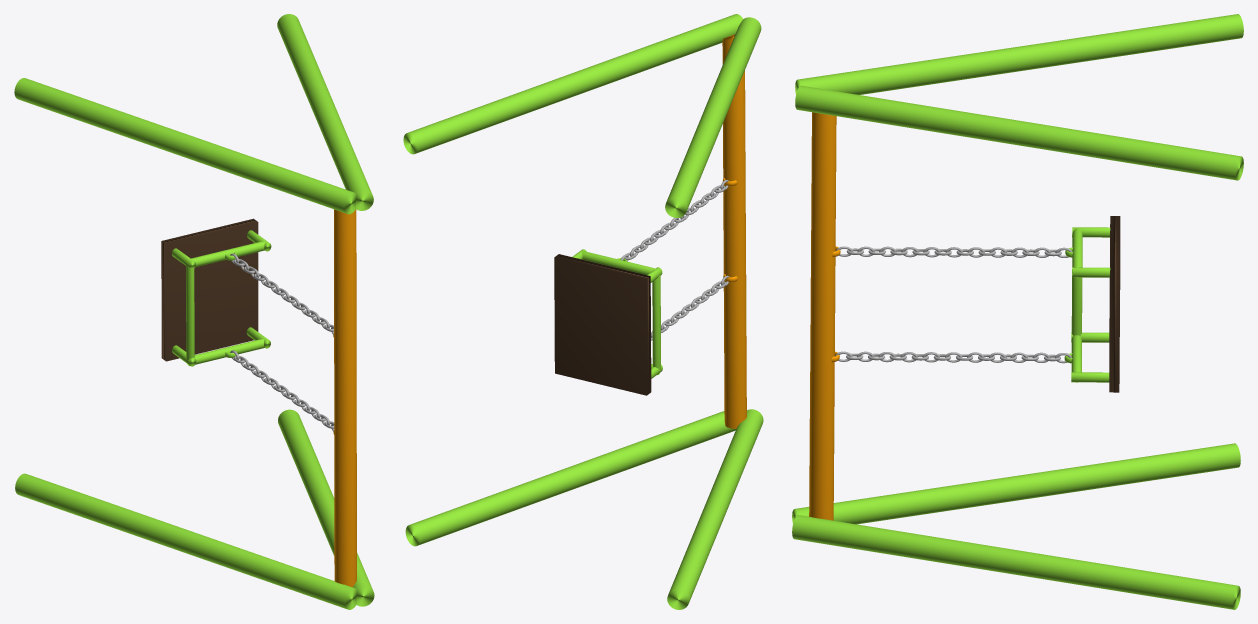
File: качели (1).glb
3 views of the same model, side by side, from view 1: azimuth 30°, elevation 25°; view 2: azimuth 150°, elevation 25°; view 3: azimuth 270°, elevation 25° (orthographic). The views are drawn at different scales.
Visible parts, largest first — view 1: Куб.030, Циліндр.004, Циліндр.001, Циліндр.003, Циліндр.002, Циліндр, Циліндр.009, Циліндр.010, Циліндр.011; view 2: Куб.030, Циліндр.002, Циліндр, Циліндр.004, Циліндр.003, Циліндр.001, Циліндр.009, Циліндр.010; view 3: Циліндр.002, Циліндр, Циліндр.003, Циліндр.001, Циліндр.004, Куб.030, Циліндр.009.
Part boxes in pixels (bbox=[...]): Куб.030: bbox=[161, 218, 258, 361]; Циліндр.004: bbox=[334, 209, 356, 587]; Циліндр.001: bbox=[15, 473, 356, 609]; Циліндр.003: bbox=[14, 78, 355, 214]; Циліндр.002: bbox=[277, 14, 373, 210]; Циліндр: bbox=[278, 409, 374, 606]; Циліндр.009: bbox=[186, 264, 194, 360]; Циліндр.010: bbox=[190, 240, 266, 266]; Циліндр.011: bbox=[187, 338, 264, 365]; Куб.030: bbox=[554, 254, 651, 395]; Циліндр.002: bbox=[403, 14, 742, 154]; Циліндр: bbox=[405, 411, 736, 546]; Циліндр.004: bbox=[722, 34, 746, 428]; Циліндр.003: bbox=[665, 17, 761, 217]; Циліндр.001: bbox=[667, 409, 763, 609]; Циліндр.009: bbox=[652, 274, 660, 369]; Циліндр.010: bbox=[580, 250, 656, 275]; Циліндр.002: bbox=[795, 85, 1243, 180]; Циліндр: bbox=[792, 515, 1240, 609]; Циліндр.003: bbox=[795, 14, 1243, 94]; Циліндр.001: bbox=[792, 443, 1240, 524]; Циліндр.004: bbox=[809, 112, 836, 520]; Куб.030: bbox=[1109, 216, 1120, 392]; Циліндр.009: bbox=[1071, 269, 1082, 335].
Size of the model in its own units: 1.52 by 2.12 by 1.91.
